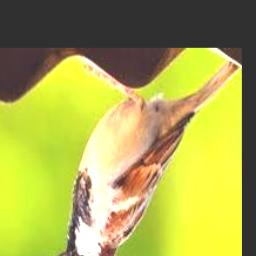Sparrow: (50, 61, 240, 256)
